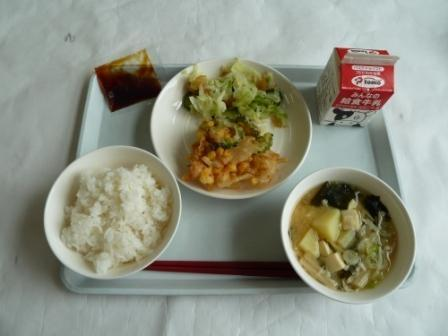Milk: (304, 37, 396, 136)
Rice: (40, 144, 183, 279)
Salad: (170, 57, 293, 127)
Soups: (286, 169, 414, 298)
vegetable based cooked food: (188, 126, 292, 193)
